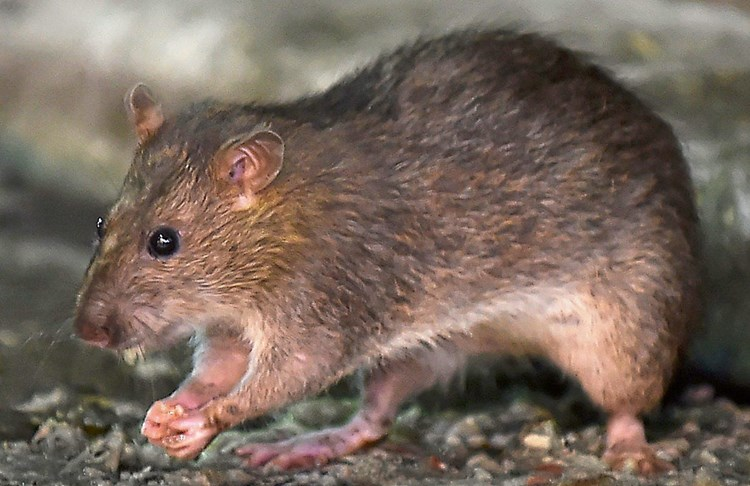rat: (62, 73, 446, 476)
